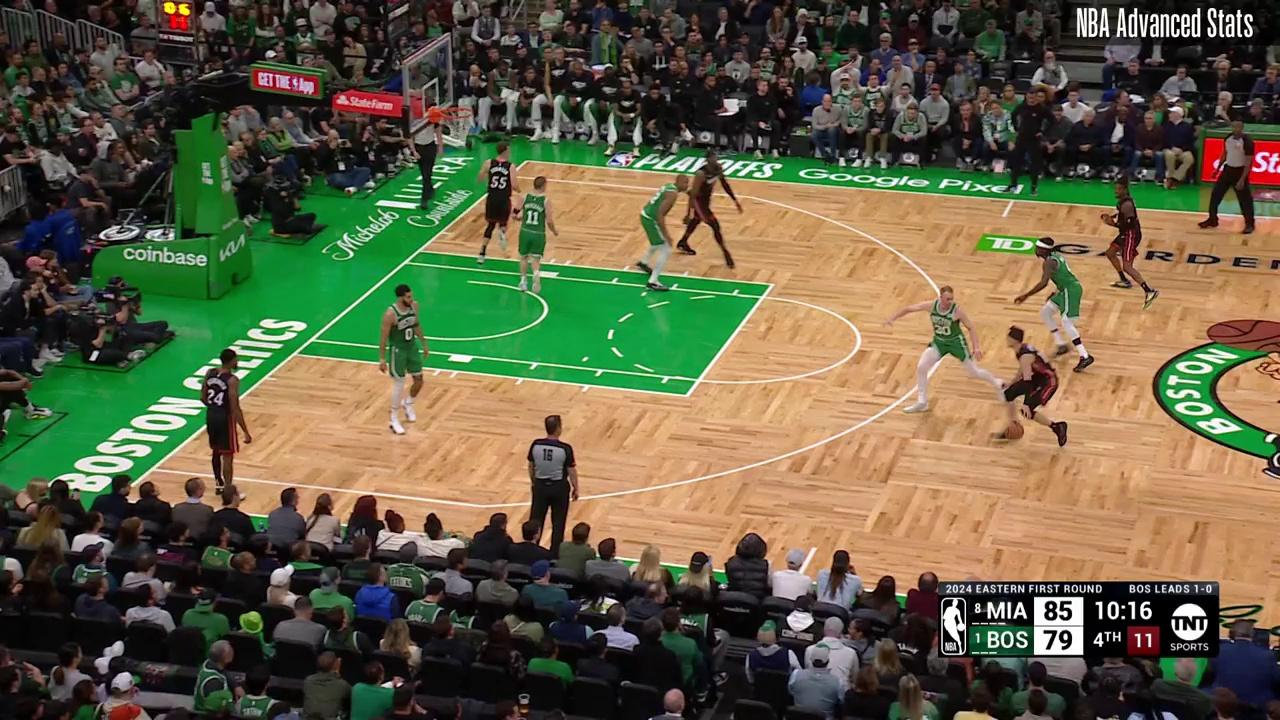3_sx: (147, 463, 159, 475)
b_dx: (523, 157, 530, 165)
free_adx: (768, 281, 776, 289)
free_asx: (683, 392, 692, 399)
free_bdx: (414, 247, 424, 255)
free_bsx: (290, 350, 300, 359)
mid_dx: (999, 214, 1007, 221)
mid_sx: (810, 543, 819, 552)
referee: (520, 410, 586, 543), (1200, 120, 1260, 234), (408, 116, 444, 212)
team: (885, 286, 1008, 407), (1010, 239, 1095, 369), (376, 282, 432, 435), (636, 172, 690, 292), (515, 178, 560, 292)
team1: (995, 328, 1068, 452), (1095, 174, 1161, 310), (200, 348, 254, 506), (677, 150, 746, 268), (475, 142, 522, 263)
timer: (1091, 597, 1156, 623)
